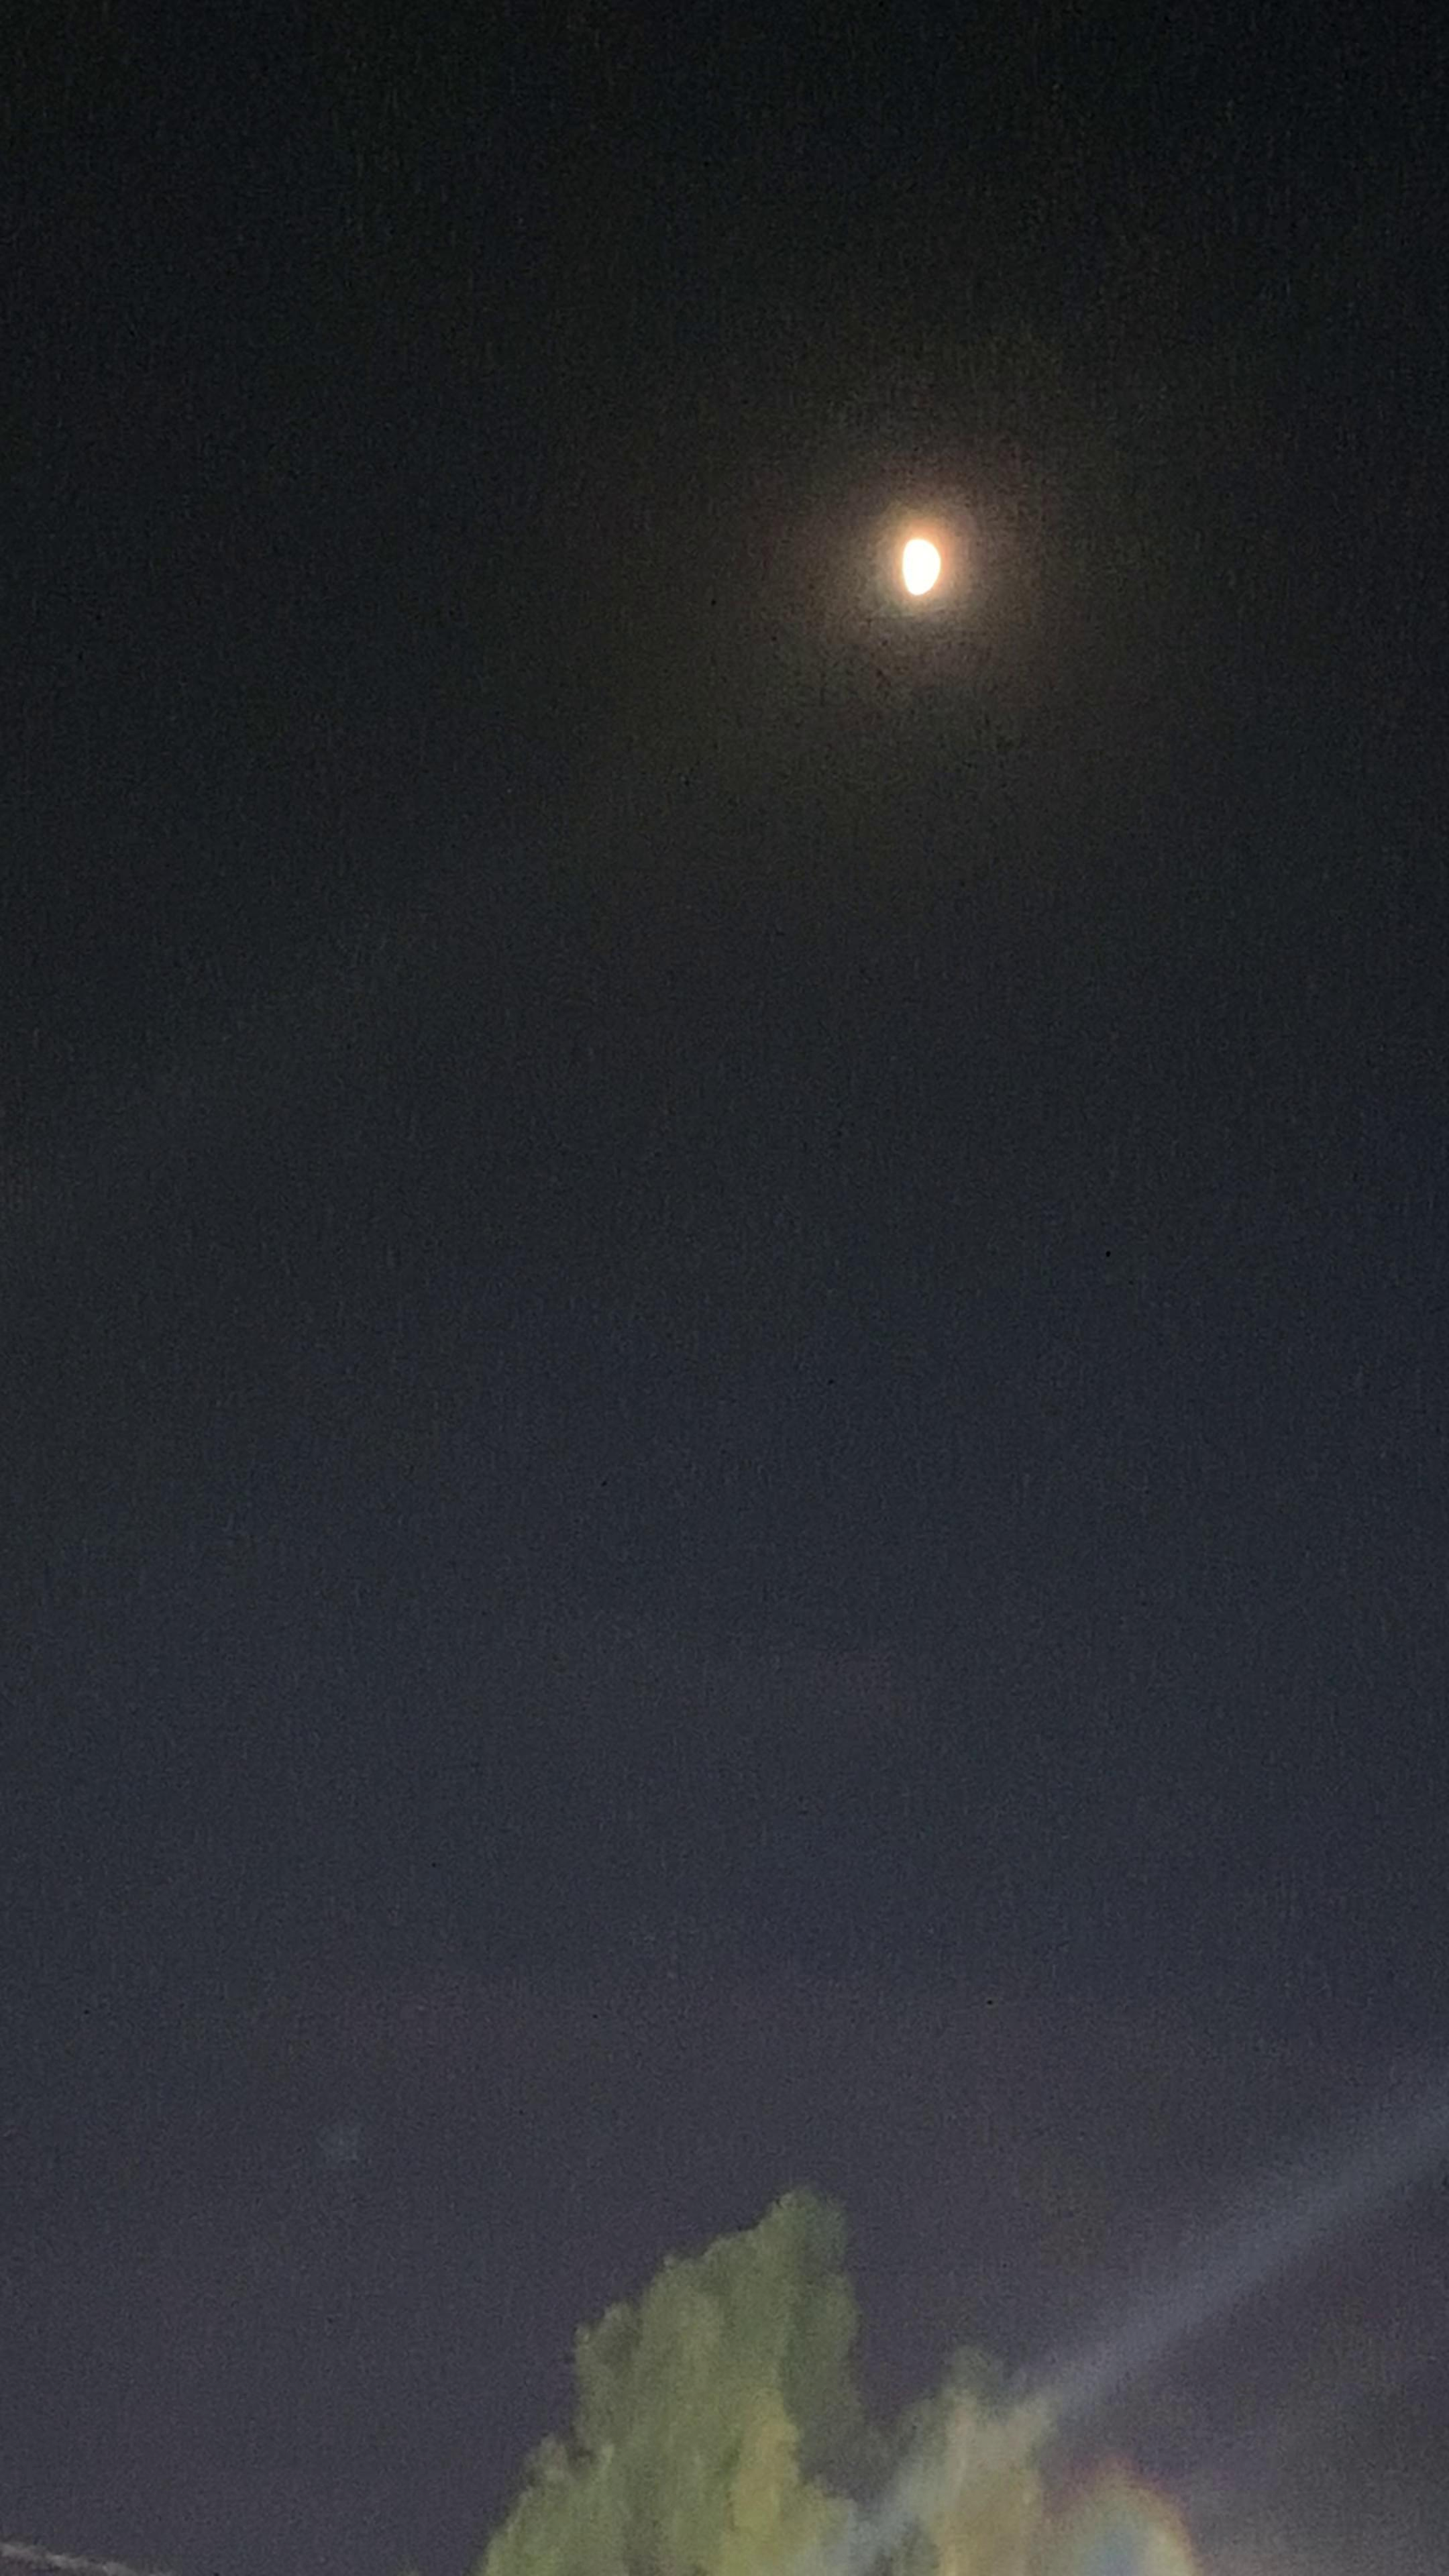moon: (863, 479, 982, 609)
